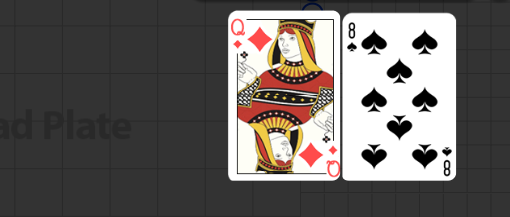8S: (440, 144, 453, 176)
QD: (284, 134, 328, 181), (217, 14, 261, 60)
